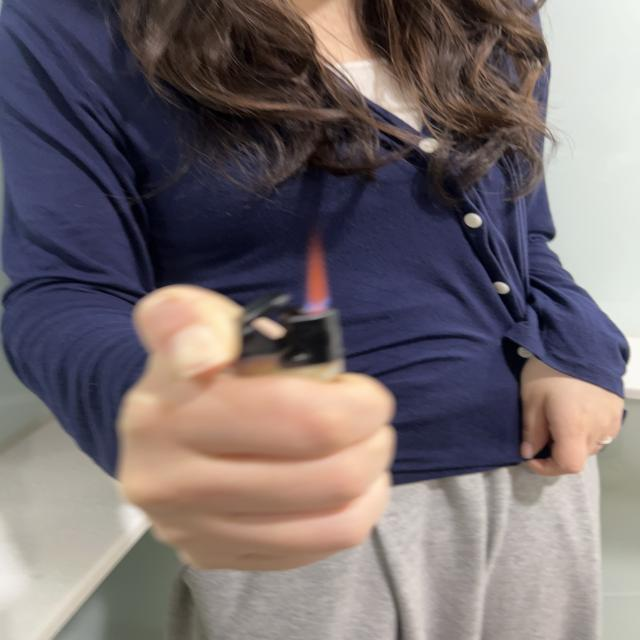fire: (300, 234, 332, 314)
